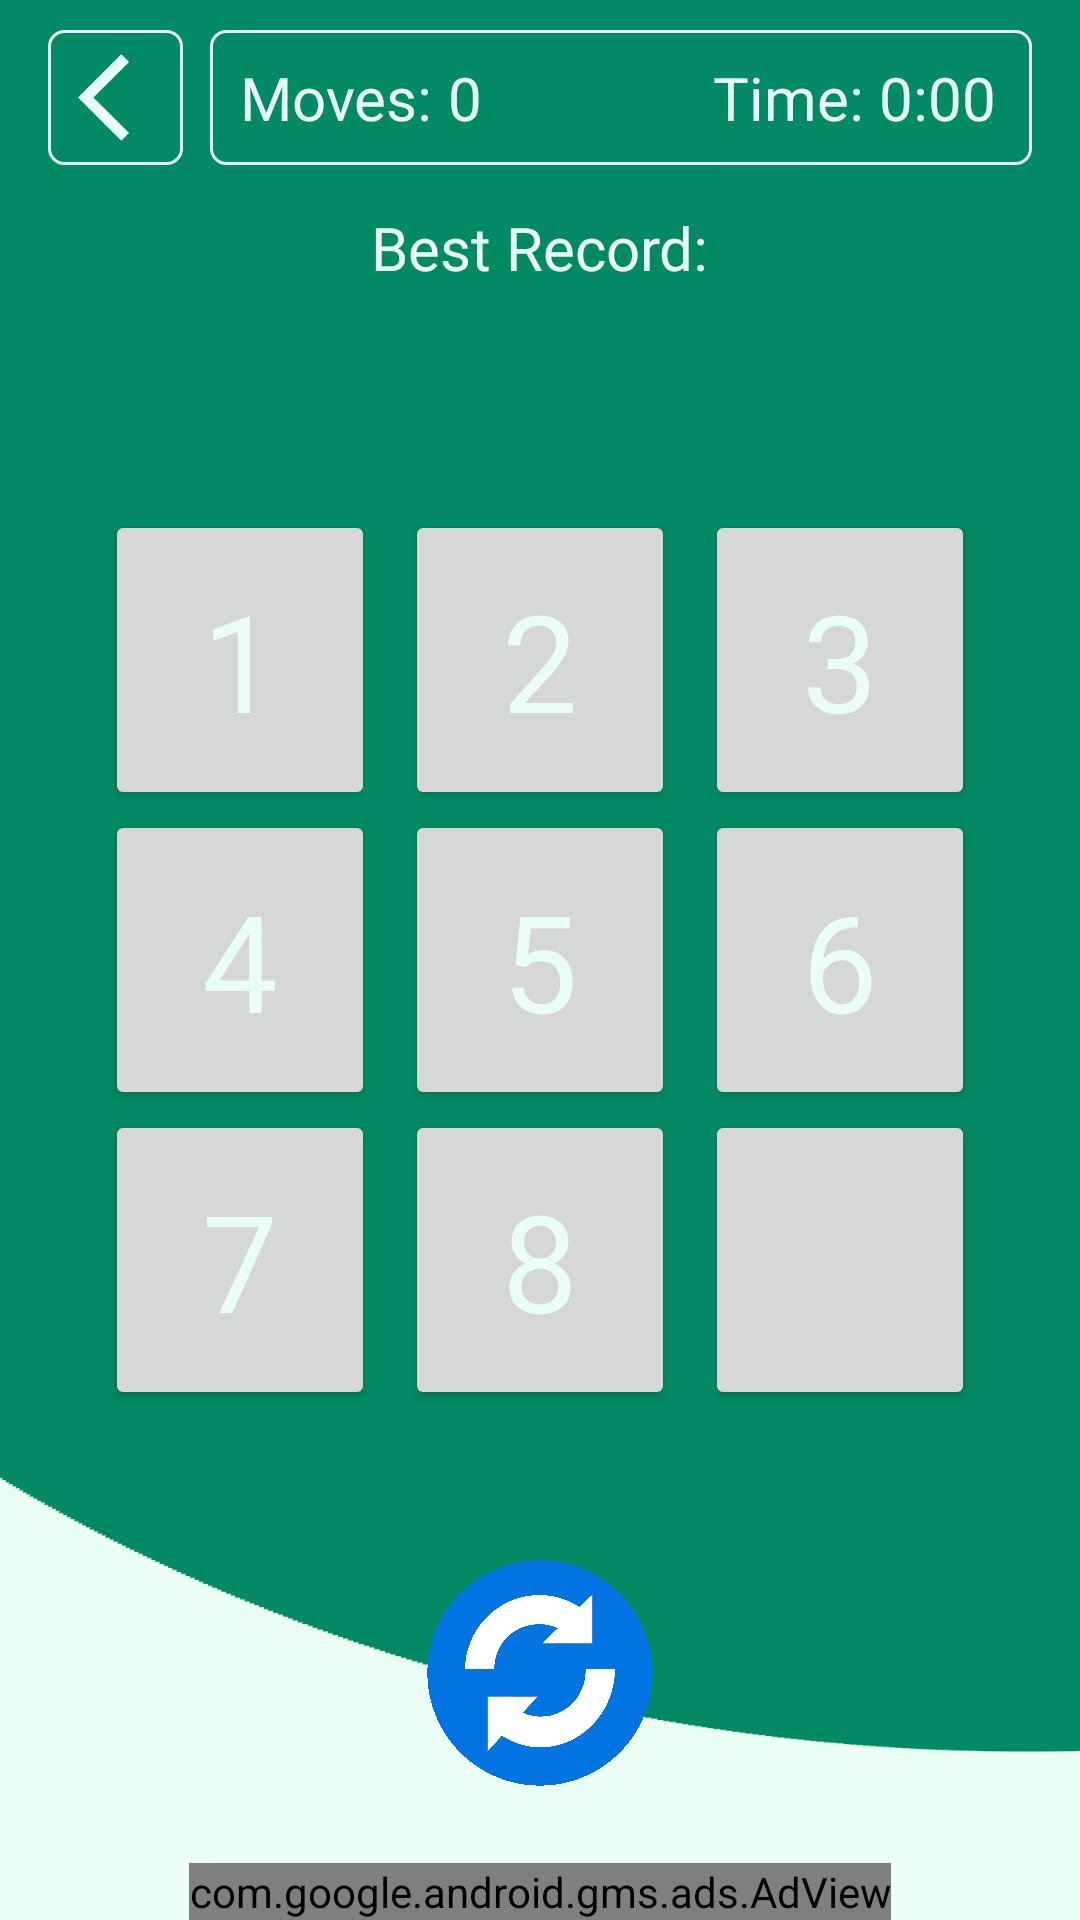

Named icons in this screenshot (1080x1920) and their centers, (x=x, y=y):
arrow back: (x=115, y=97)
